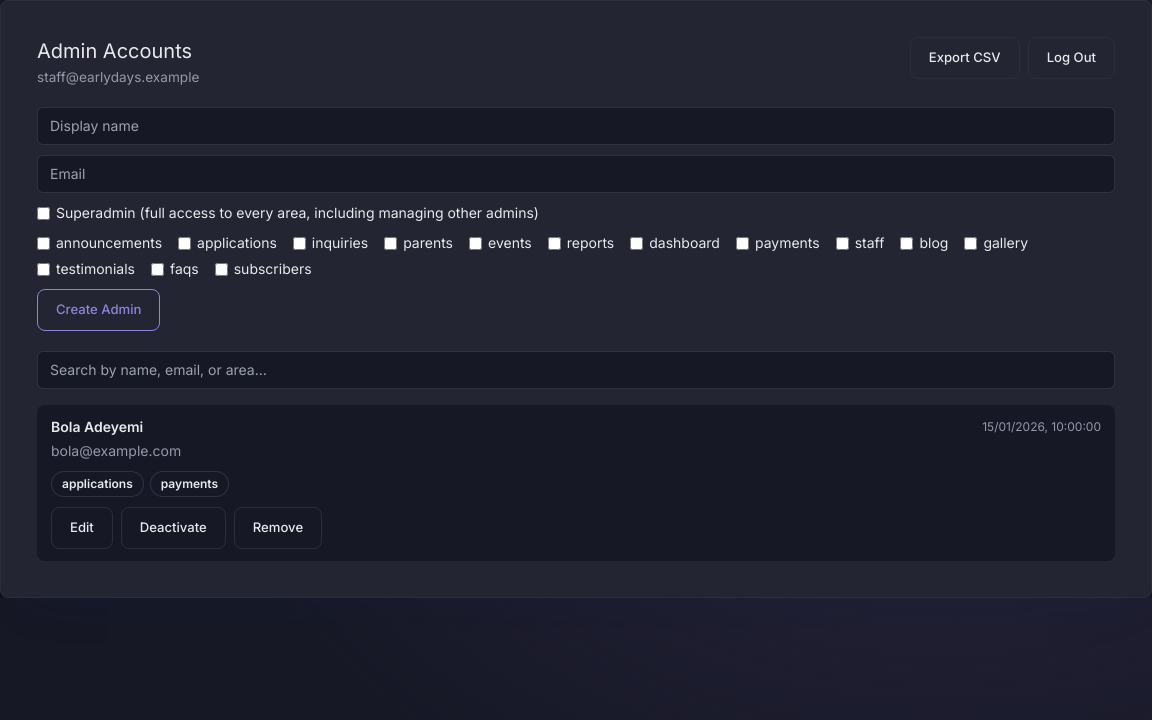
Test case: AdminAccessList › toggles an admin account disabled via Deactivate, with rollback on failure
The width and height of the screenshot is (1152, 720).
Expected: the text "Bola Adeyemi" is shown, [51,417,143,437]
Click the button "Deactivate": (173, 528) [121,507,226,549]
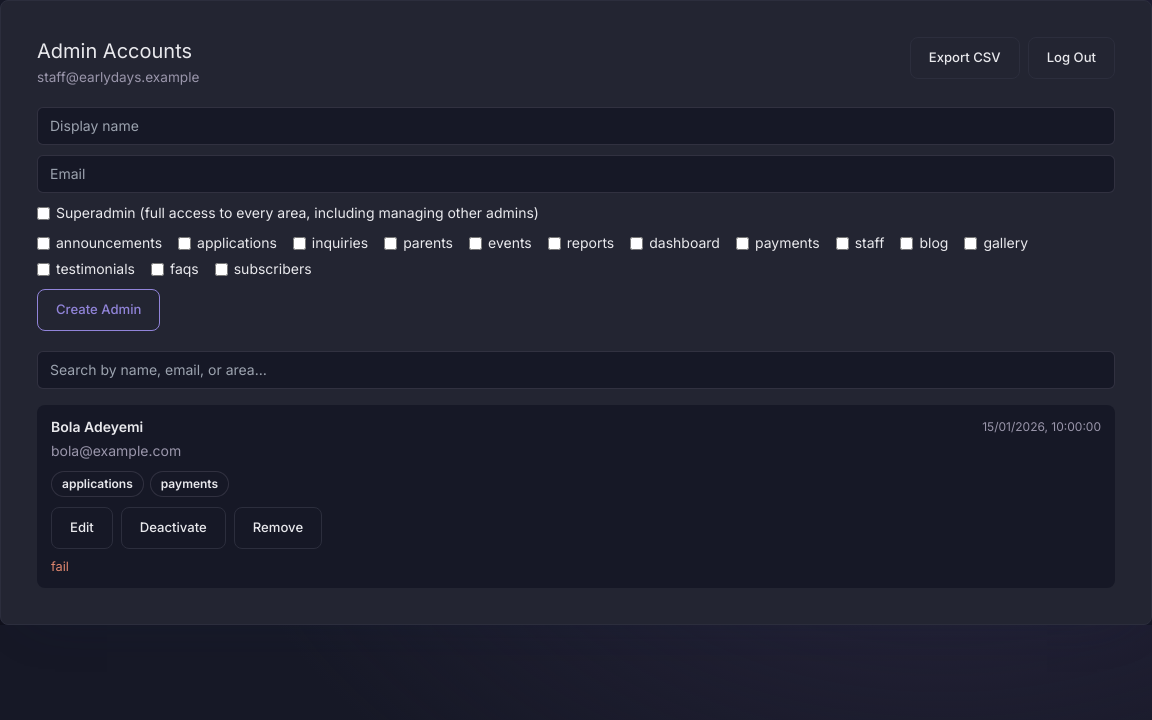
Result: the text "fail" is shown at [51,559,69,574]
